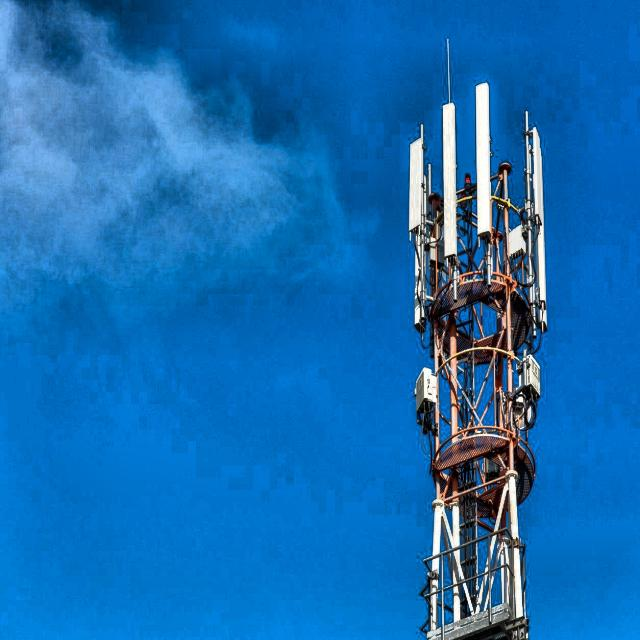antenna: (525, 111, 546, 331), (475, 82, 491, 235), (442, 102, 456, 256), (408, 124, 424, 231)
